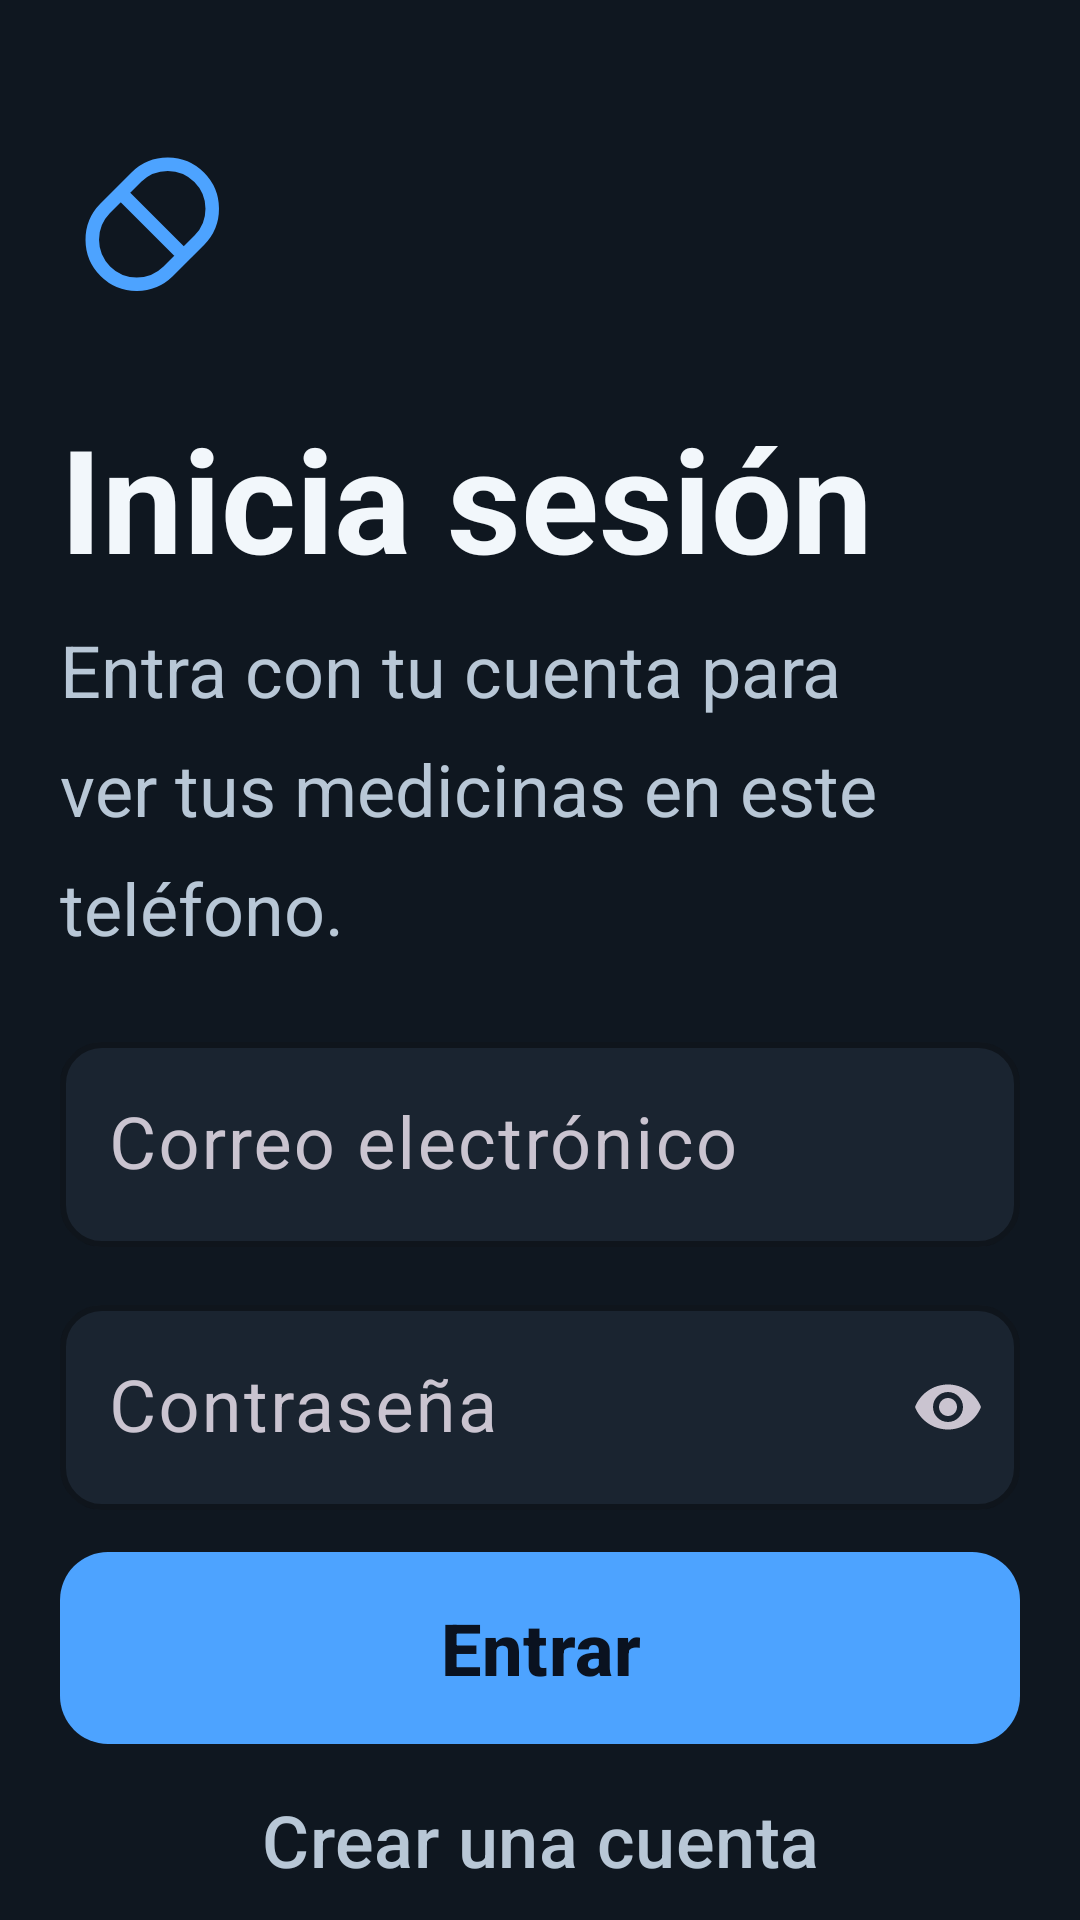

Where icons sit on this 1080 x 1920 app screen, as Rect(x1, y1, x2, y2):
pastilla: Rect(85, 157, 219, 291)
